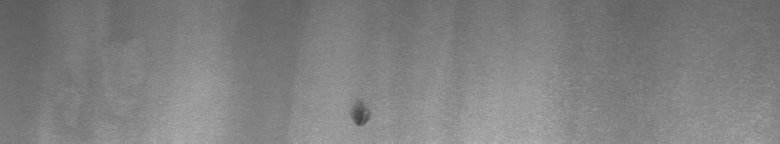fi: (346, 100, 375, 132)
